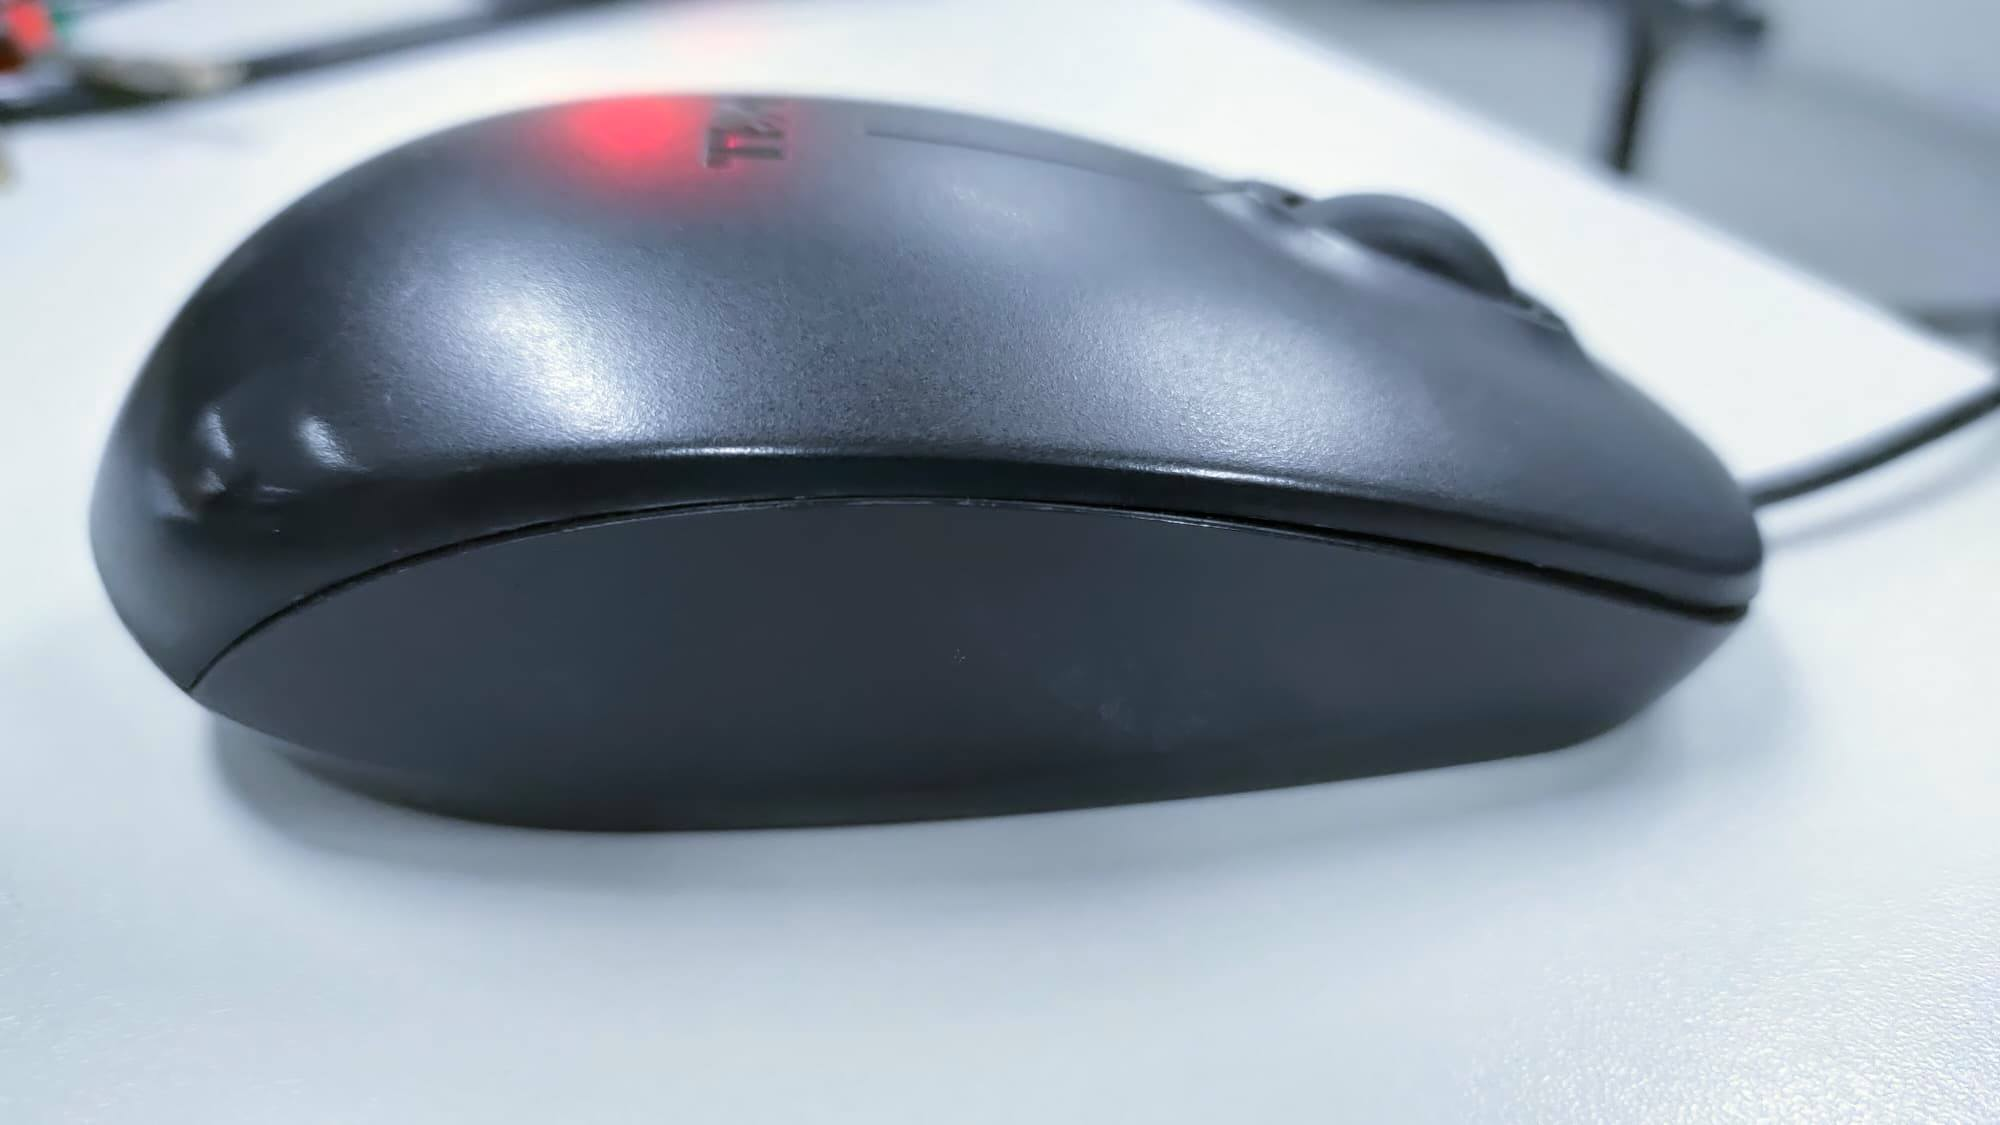mouse: (74, 54, 1798, 849)
